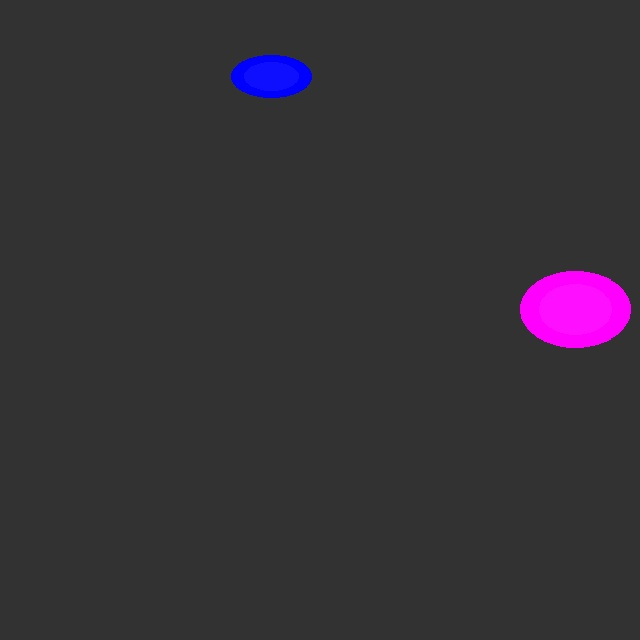fish: (520, 271, 630, 347), (231, 55, 312, 97)
